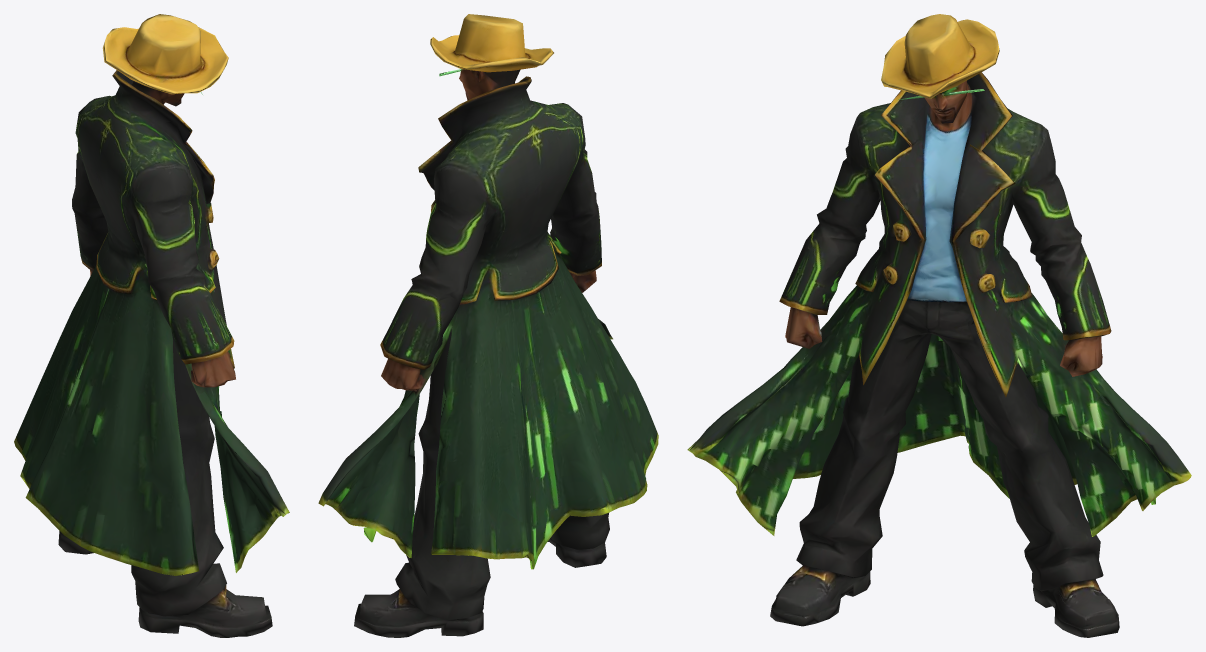
Rendered from stage3.glb.
3 renders of one model, left to right at view 1: azimuth 30°, elevation 25°; view 2: azimuth 150°, elevation 25°; view 3: azimuth 270°, elevation 25°, orthographic. The views are drawn at different scales.
Visible parts, largest first — view 1: tripo_node_751e6754-d6f2-4d91-9887-17cafe1f8d6f; view 2: tripo_node_751e6754-d6f2-4d91-9887-17cafe1f8d6f; view 3: tripo_node_751e6754-d6f2-4d91-9887-17cafe1f8d6f.
Part boxes in pixels (x1,y1,x2,y2): tripo_node_751e6754-d6f2-4d91-9887-17cafe1f8d6f: (14, 14, 289, 637); tripo_node_751e6754-d6f2-4d91-9887-17cafe1f8d6f: (318, 14, 658, 637); tripo_node_751e6754-d6f2-4d91-9887-17cafe1f8d6f: (687, 14, 1191, 637).
Bounding box in the file's own units: 0.3524 × 1 × 0.7769.
Materials: 1 (1 with a texture image).
